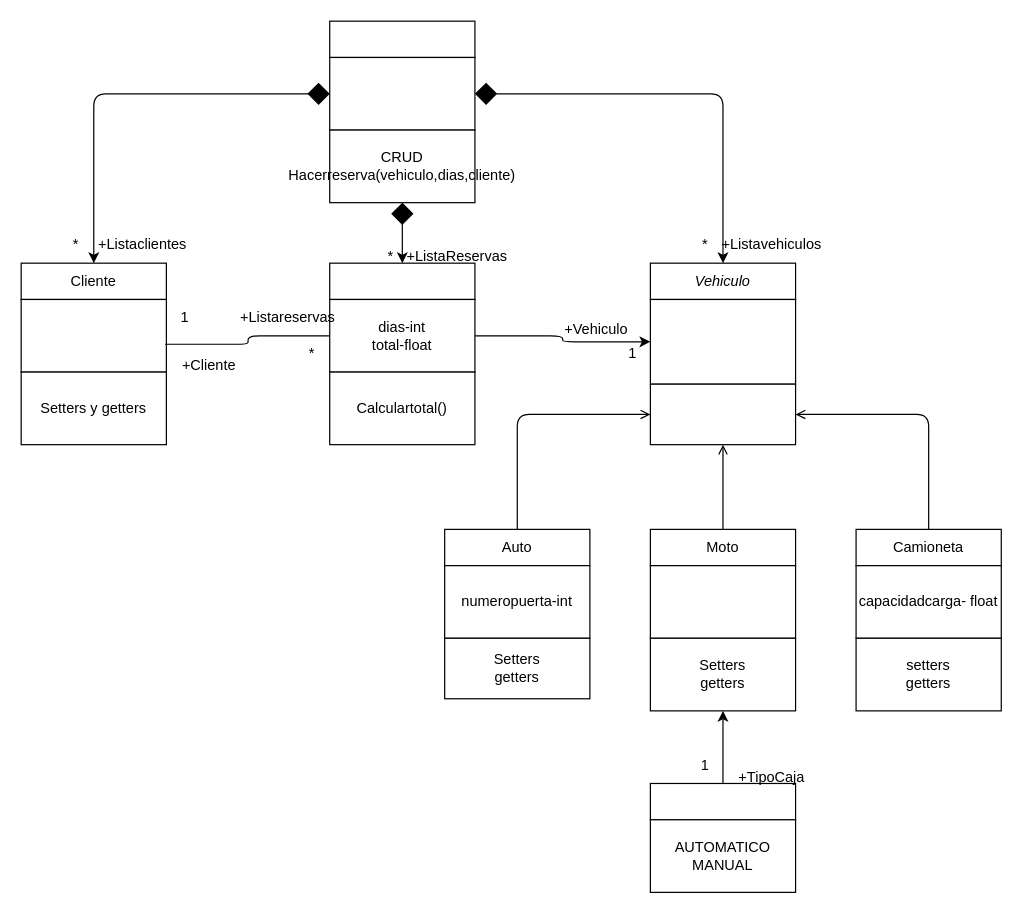
Image size: 1022x914. Some labels were removed from this diagram. Each missing label, with the box of its shape:
Caja: (649, 782, 796, 820)
Empresa: (329, 20, 475, 57)
matricula-String marca-String modelo-String añofabricacion-String: (649, 298, 796, 384)
nombre-String: (329, 56, 475, 130)
nombre-String cedula-String telefono-String correo-String: (20, 298, 166, 372)
Reserva: (329, 262, 475, 299)
Setters getters Calcularcosto(dias): (649, 383, 796, 445)
